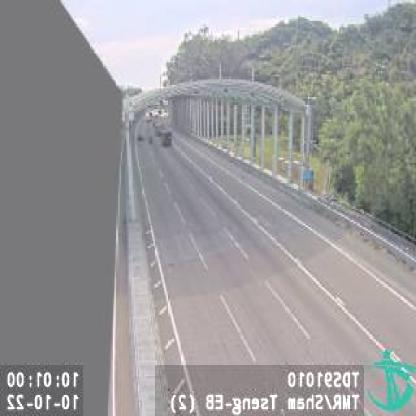Car: (163, 128, 174, 146)
